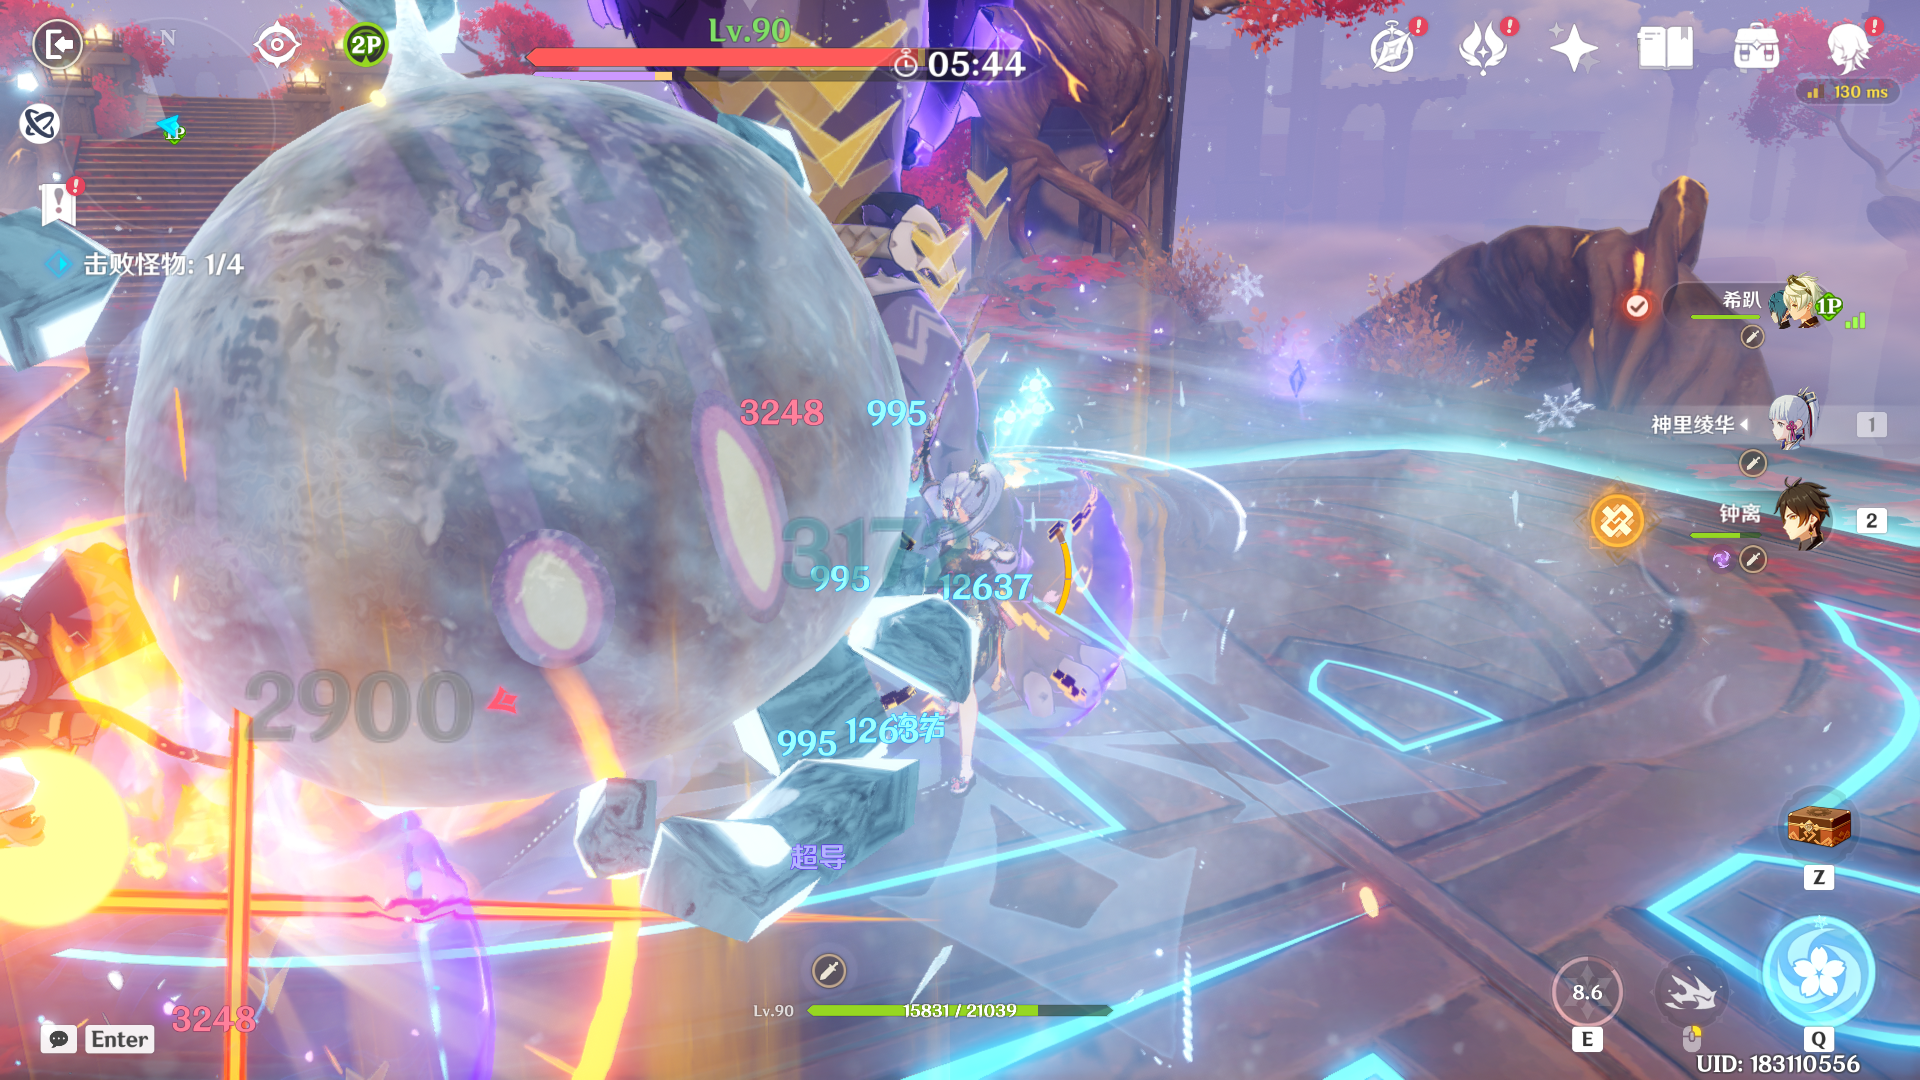character: (880, 444, 1069, 806)
slime: (95, 80, 940, 814)
